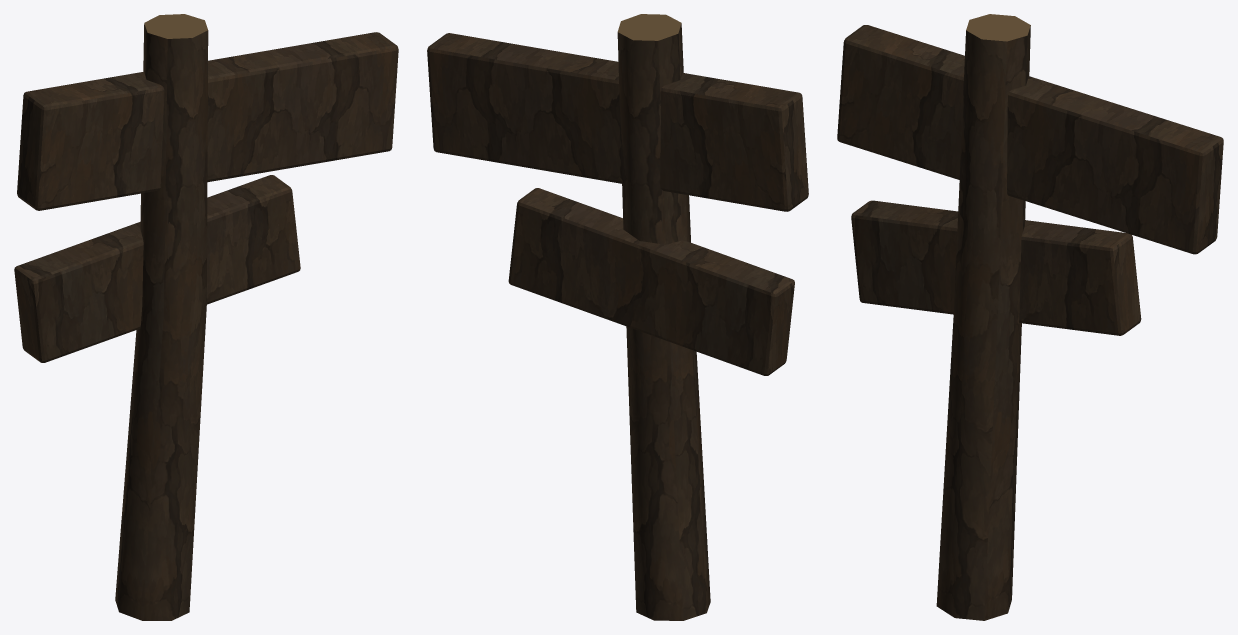
The picture shows the model from 3 angles, left to right: view 1: azimuth 30°, elevation 25°; view 2: azimuth 150°, elevation 25°; view 3: azimuth 330°, elevation 25°; orthographic projection.
Visible parts, largest first — view 1: Trail marker; view 2: Trail marker; view 3: Trail marker.
Part boxes in pixels (<box>): Trail marker: <box>14,14,398,620</box>; Trail marker: <box>427,14,808,620</box>; Trail marker: <box>837,14,1223,620</box>.
Size of the model in its own units: 1.52 by 2.31 by 0.2913.
Materials: 2 (1 with a texture image).
